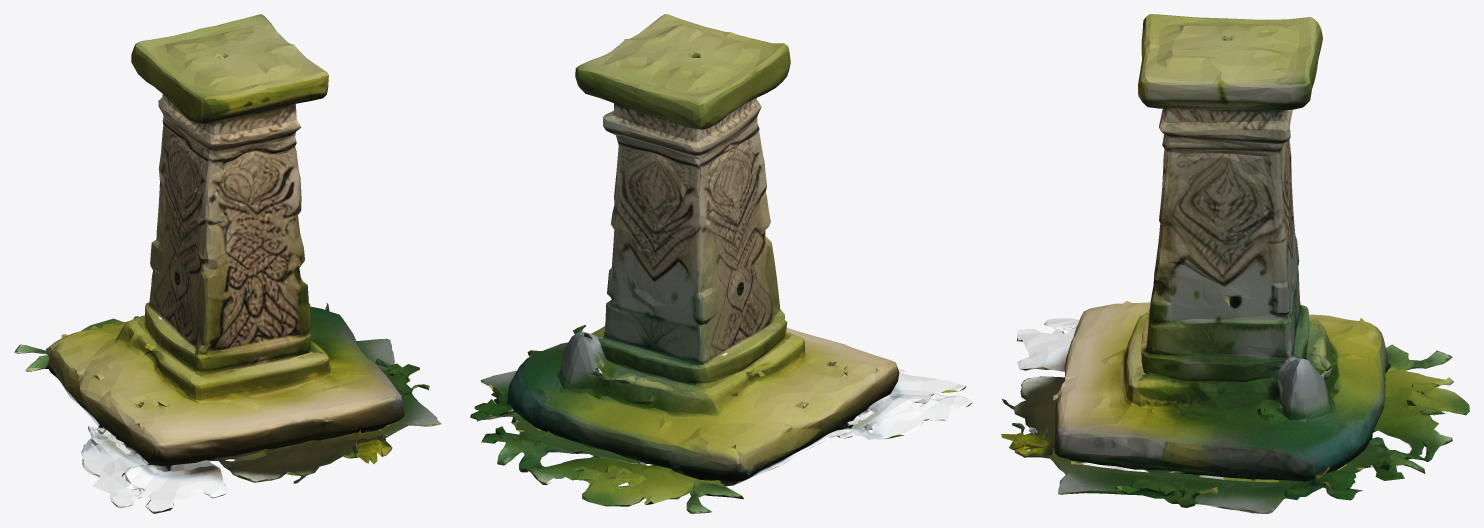
Rendered from ruin_pillar.glb.
The picture shows the model from 3 angles, left to right: view 1: azimuth 30°, elevation 25°; view 2: azimuth 150°, elevation 25°; view 3: azimuth 270°, elevation 25°; orthographic projection. The views are drawn at different scales.
Visible parts, largest first — view 1: tmphe0hp9yv.ply; view 2: tmphe0hp9yv.ply; view 3: tmphe0hp9yv.ply.
Part boxes in pixels (x1,y1,x2,y2): tmphe0hp9yv.ply: (14, 14, 441, 513); tmphe0hp9yv.ply: (470, 14, 972, 513); tmphe0hp9yv.ply: (1001, 14, 1469, 513).
Size of the model in its own units: 1.91 by 1.73 by 1.9.
1 material, 1 textured.
